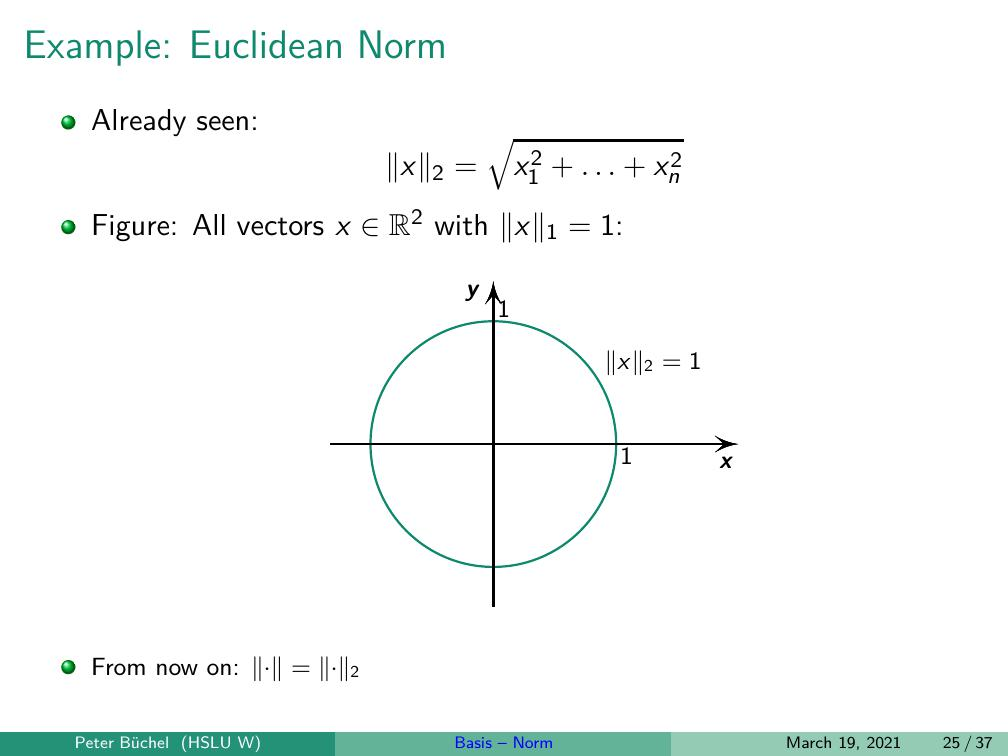Title: (17, 21, 460, 74)
